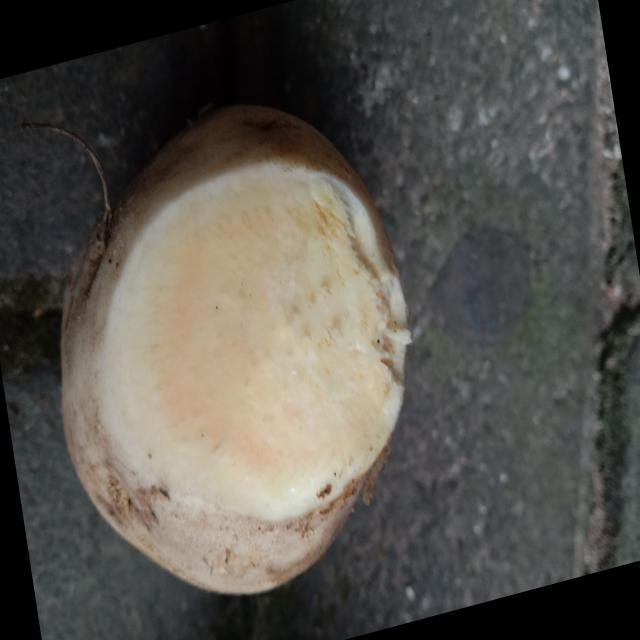Healthy Sweet Potato: (104, 162, 410, 520)
